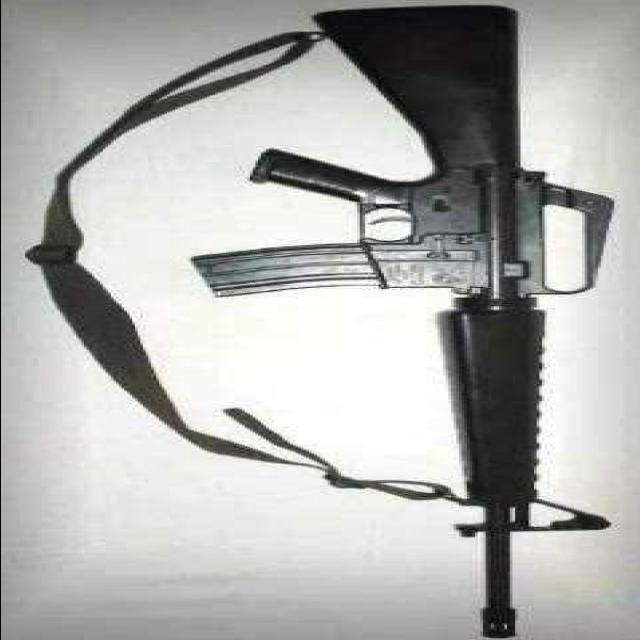heavyweapon: (189, 2, 628, 634)
